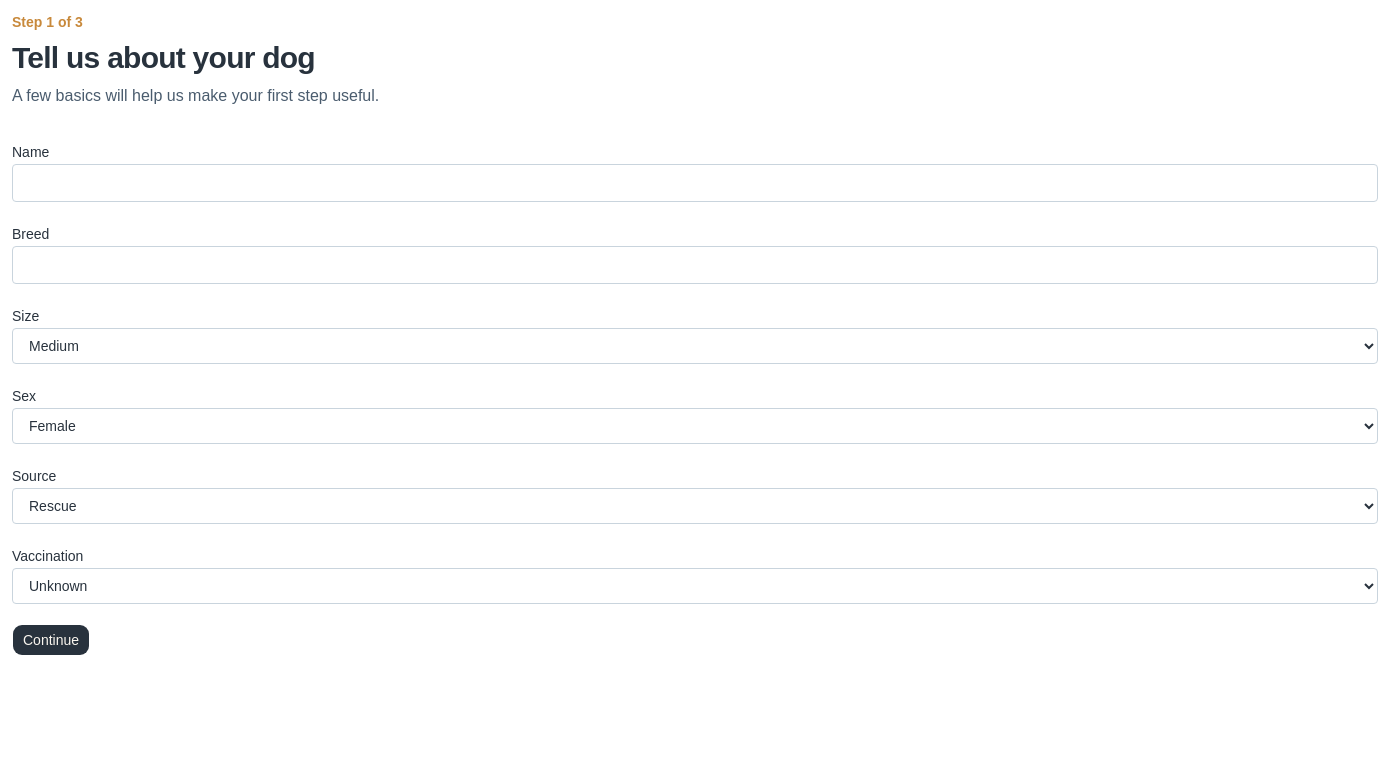
Test case: GuidedSetup › shows the active setup error when reconciliation returns an error result
Type "Biscuit" into the field labelled "Name" at (695, 183), box [12,164,1378,202]
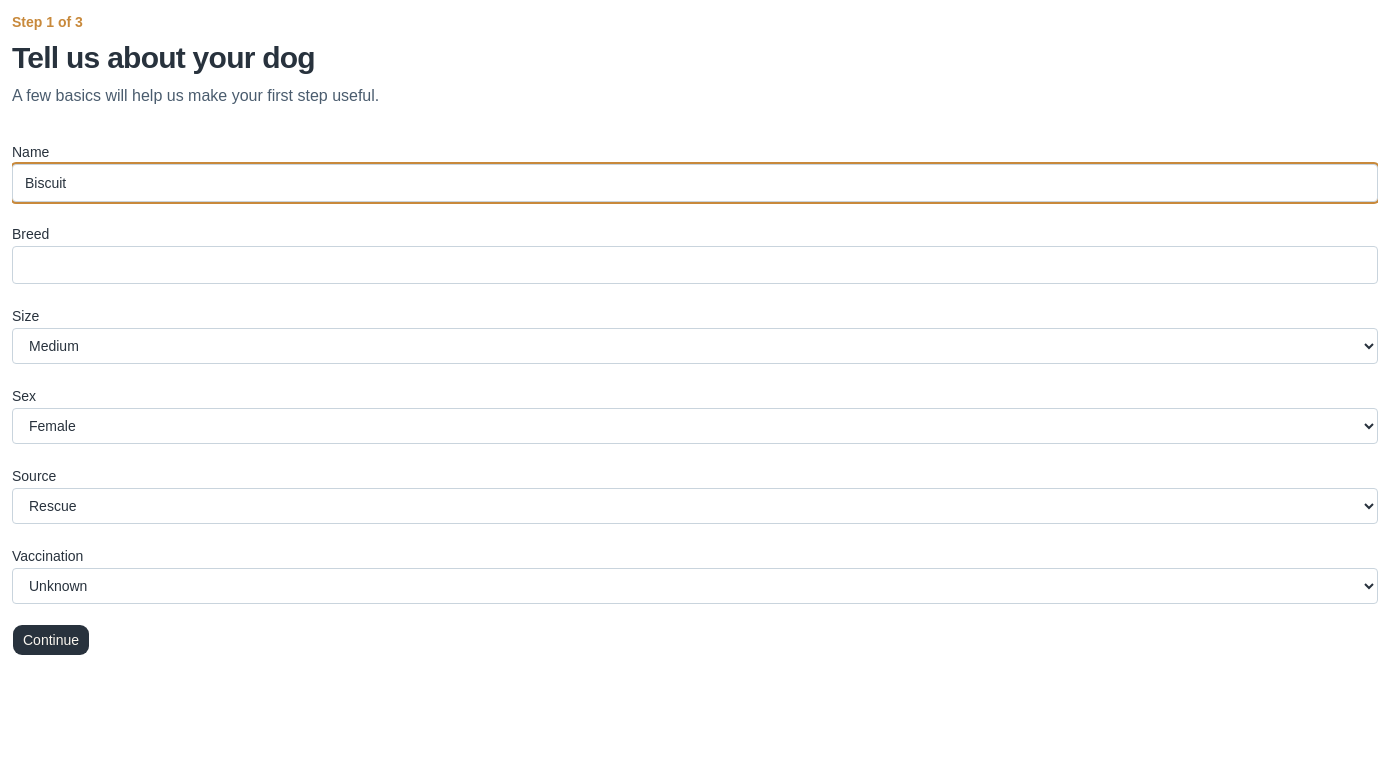
Click the button "Continue" at (51, 640), box [12,624,90,656]
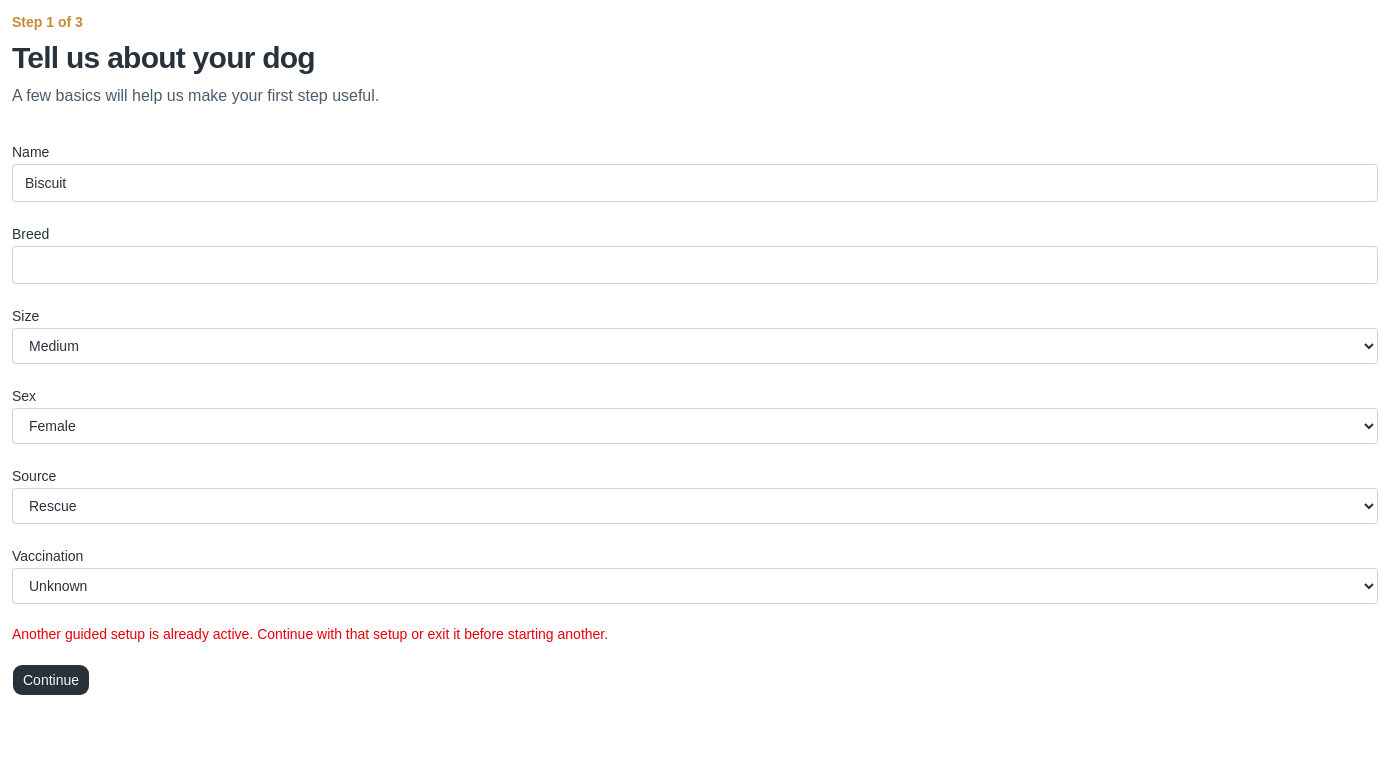
Expected: the text "Step 1 of 3" is shown, [12,14,83,30]
Expected: the message shows "Another guided setup is already active", [12,626,608,642]
